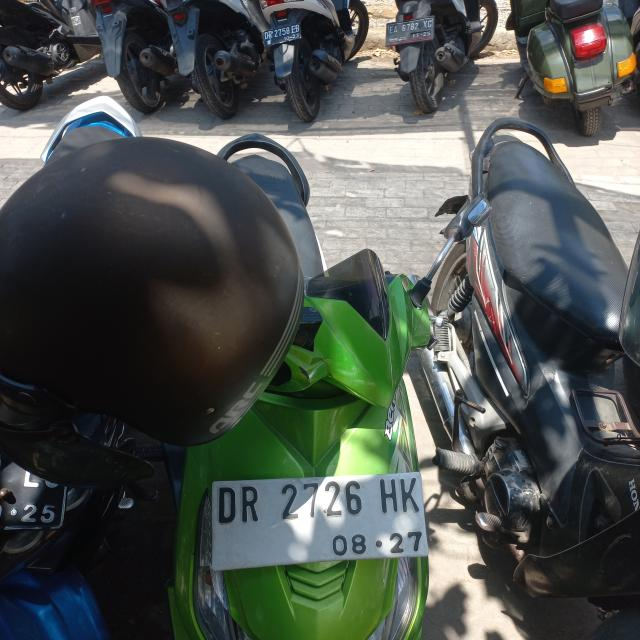plate: (208, 469, 430, 574), (386, 17, 433, 43), (263, 22, 301, 46)
